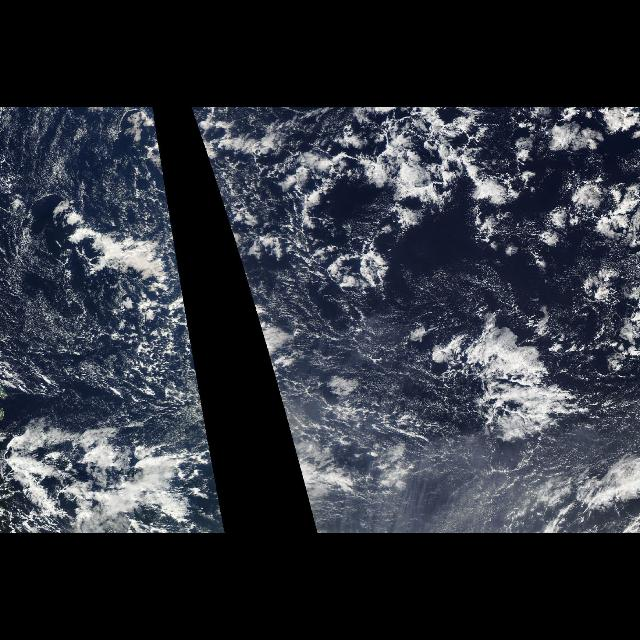Gravel: (191, 108, 413, 398), (15, 108, 201, 398)
Sugar: (303, 402, 629, 532)
